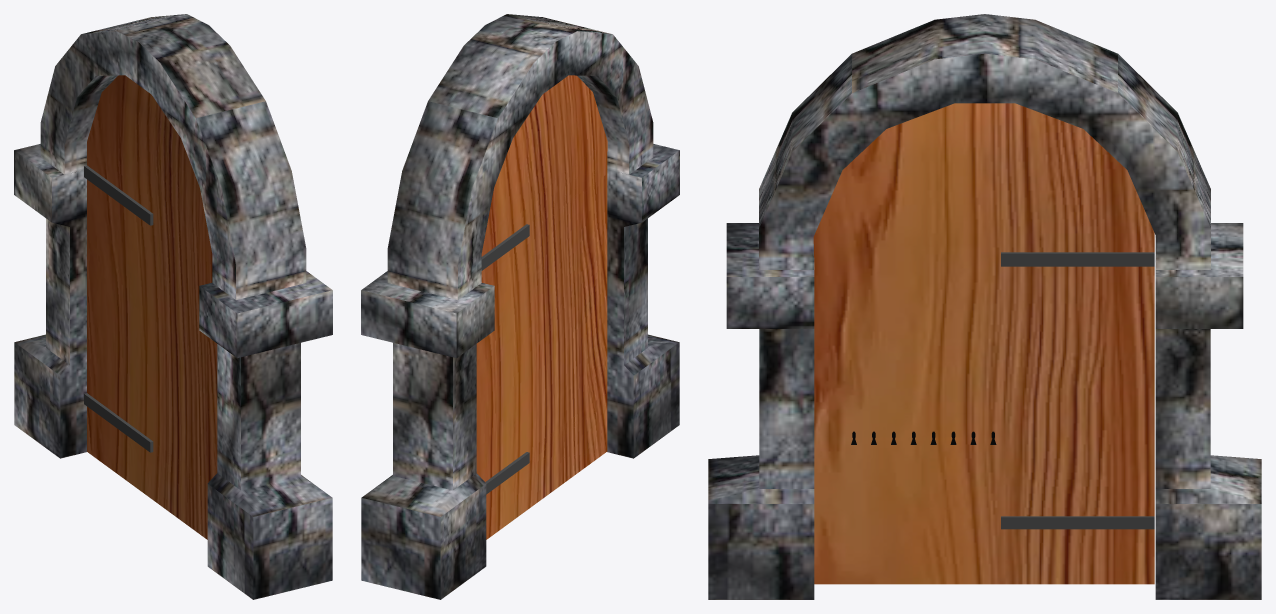
Rendered from puerta_final.fbx.
The picture shows the model from 3 angles, left to right: view 1: azimuth 30°, elevation 25°; view 2: azimuth 150°, elevation 25°; view 3: azimuth 270°, elevation 25°; orthographic projection. The views are drawn at different scales.
Parts seen in each view (by area): view 1: marco, puerta; view 2: marco, puerta; view 3: puerta, marco.
Part boxes in pixels (x1,y1,x2,y2): marco: [14, 14, 332, 599]; puerta: [84, 75, 217, 539]; marco: [361, 14, 679, 599]; puerta: [476, 75, 607, 539]; puerta: [813, 103, 1154, 584]; marco: [708, 14, 1261, 599].
Bounding box in the file's own units: 95.09 × 446 × 412.
